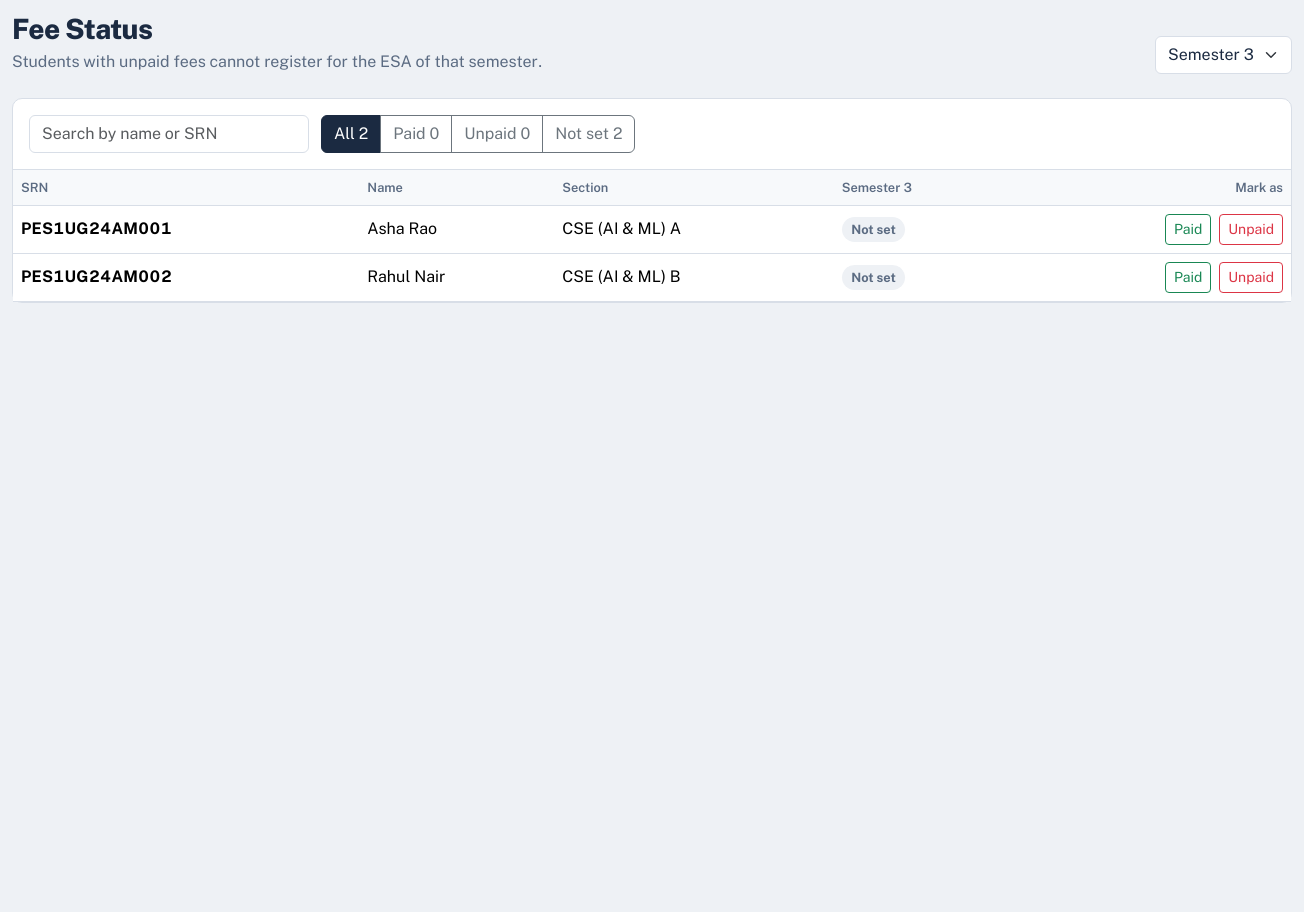
Test case: Fee Status page (F-015, TC-FEE-01) › marks a student as unpaid
This screenshot has width=1304, height=912.
Step 1. Click the button with aria-label "Mark Rahul Nair unpaid" → (1251, 277), box [1219,262,1283,293]
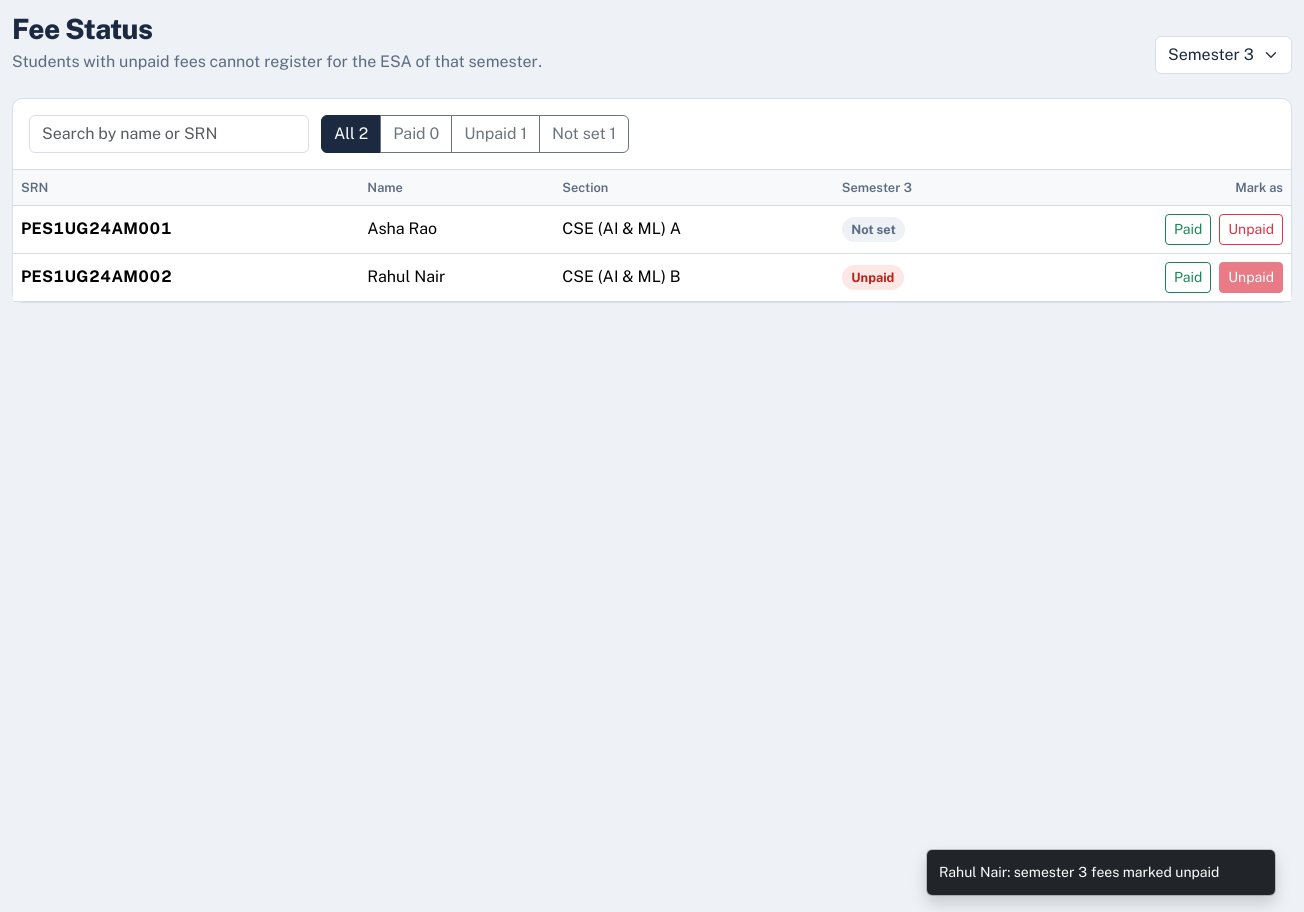
Check: the text "Rahul Nair: semester 3 fees marked unpaid" is shown, box [939,864,1219,880]
